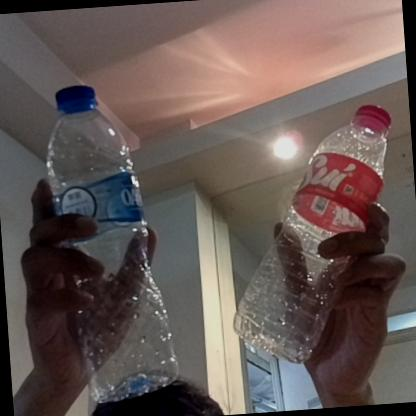plastic_bottles: (218, 98, 414, 368), (40, 80, 181, 410)
